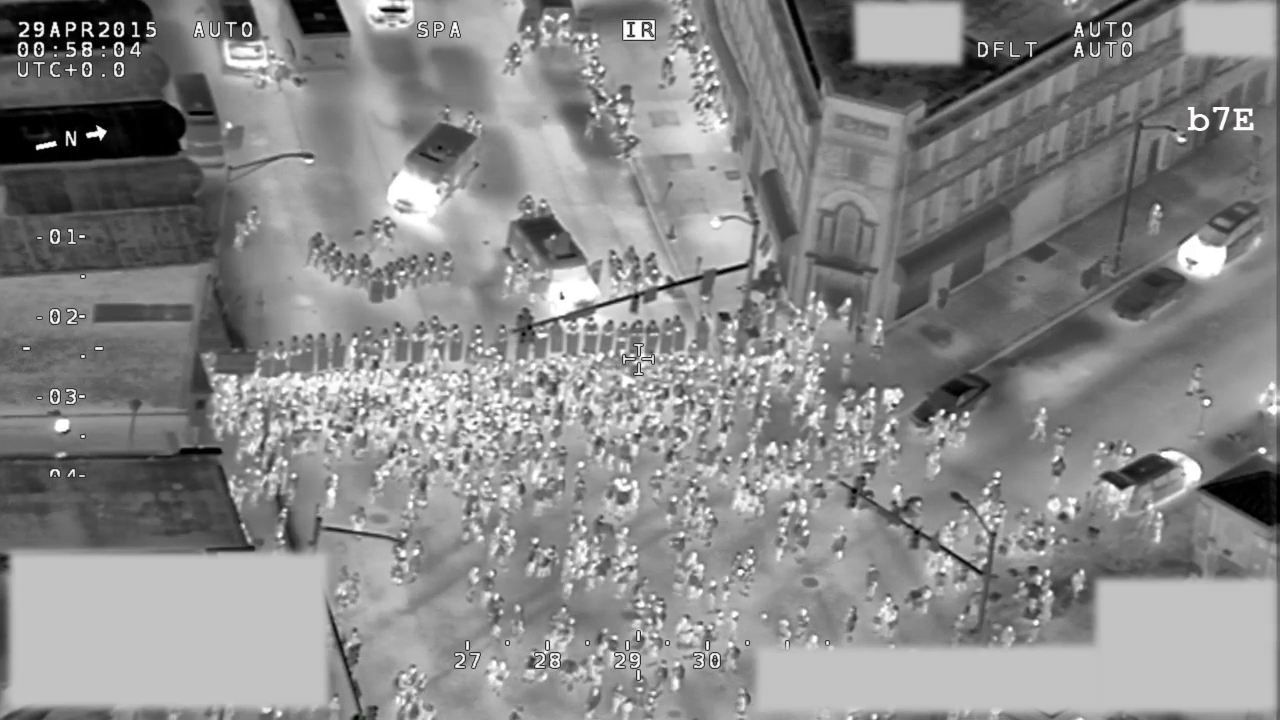vehicle: (503, 214, 604, 326), (384, 121, 482, 218), (1092, 448, 1204, 521), (169, 68, 248, 171), (1176, 200, 1266, 276), (910, 369, 994, 434), (1110, 266, 1187, 323)
